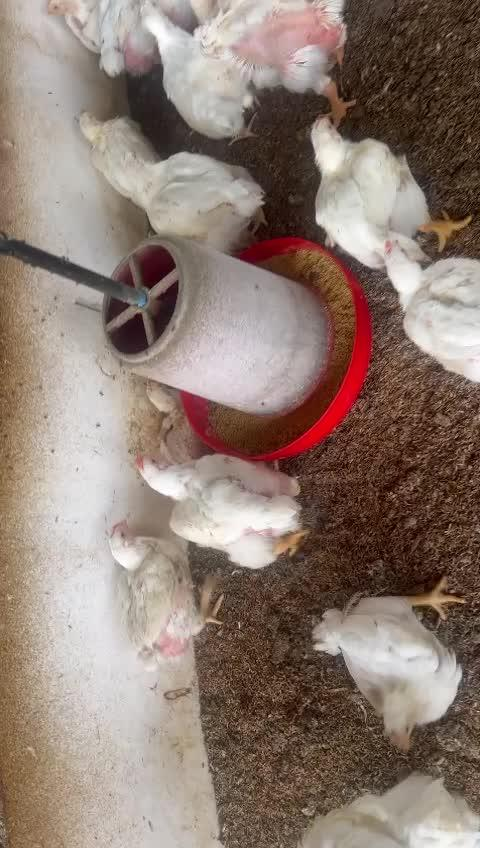AbNormal: (74, 107, 153, 189), (132, 382, 198, 456), (382, 487, 383, 488)
Normal: (317, 580, 471, 749), (309, 112, 466, 261), (130, 452, 301, 566), (200, 0, 363, 117), (142, 0, 254, 145), (109, 520, 224, 653), (384, 240, 480, 396), (117, 152, 258, 247), (44, 0, 154, 64)
